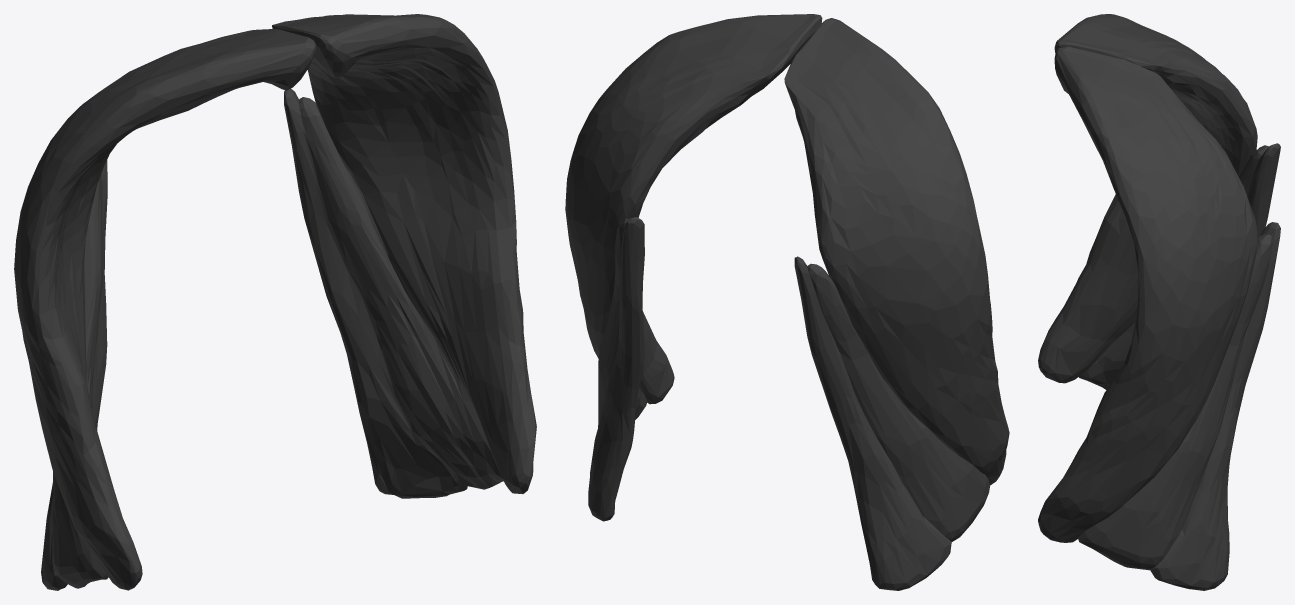
The model's file is m_biceps_femoris.glb.
The picture shows the model from 3 angles, left to right: view 1: azimuth 30°, elevation 25°; view 2: azimuth 150°, elevation 25°; view 3: azimuth 270°, elevation 25°; orthographic projection. The views are drawn at different scales.
Visible parts, largest first — view 1: m_biceps_femoris; view 2: m_biceps_femoris; view 3: m_biceps_femoris.
Boxes of the visible parts, box(x1,y1,x2,y2) form: m_biceps_femoris: box(14, 14, 536, 590); m_biceps_femoris: box(565, 14, 1009, 590); m_biceps_femoris: box(1038, 14, 1280, 590).
Bounding box in the file's own units: 0.00948 × 0.0106 × 0.00493.
1 material, 1 textured.
